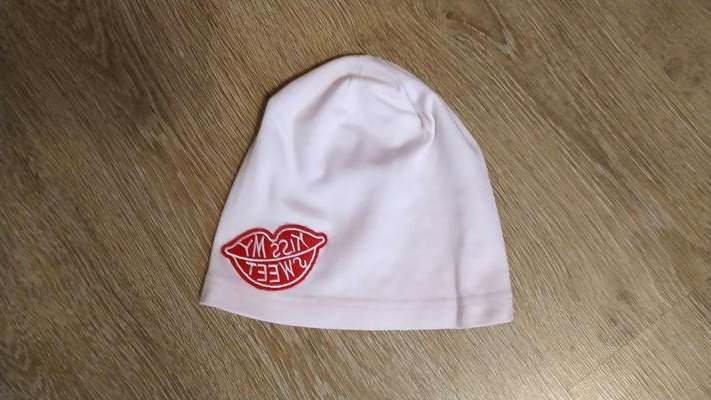Hat: (174, 43, 534, 336)
